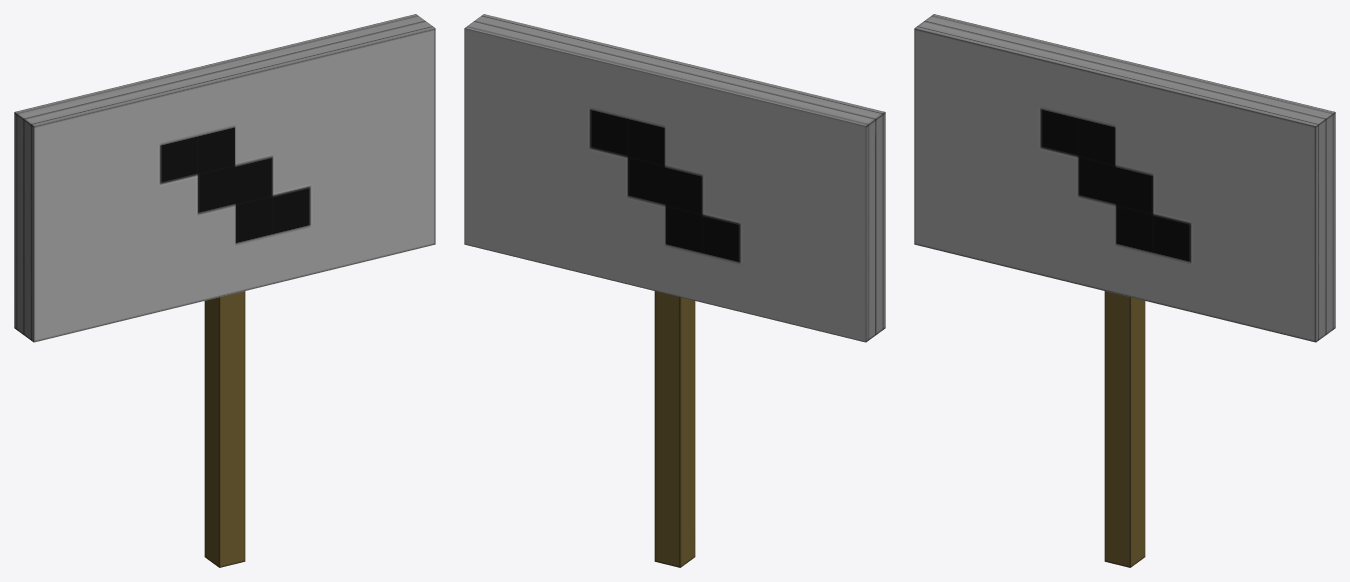
Rendered from sign.fbx.
3 renders of one model, left to right at view 1: azimuth 30°, elevation 25°; view 2: azimuth 150°, elevation 25°; view 3: azimuth 330°, elevation 25°, orthographic.
Visible parts, largest first — view 1: sign; view 2: sign; view 3: sign.
Part boxes in pixels (left/top/right/bottom): sign: left=14, top=14, right=435, bottom=567; sign: left=464, top=14, right=885, bottom=567; sign: left=914, top=14, right=1335, bottom=567.
Bounding box in the file's own units: 389 × 452 × 32.81.
Materials: 1 (1 with a texture image).
